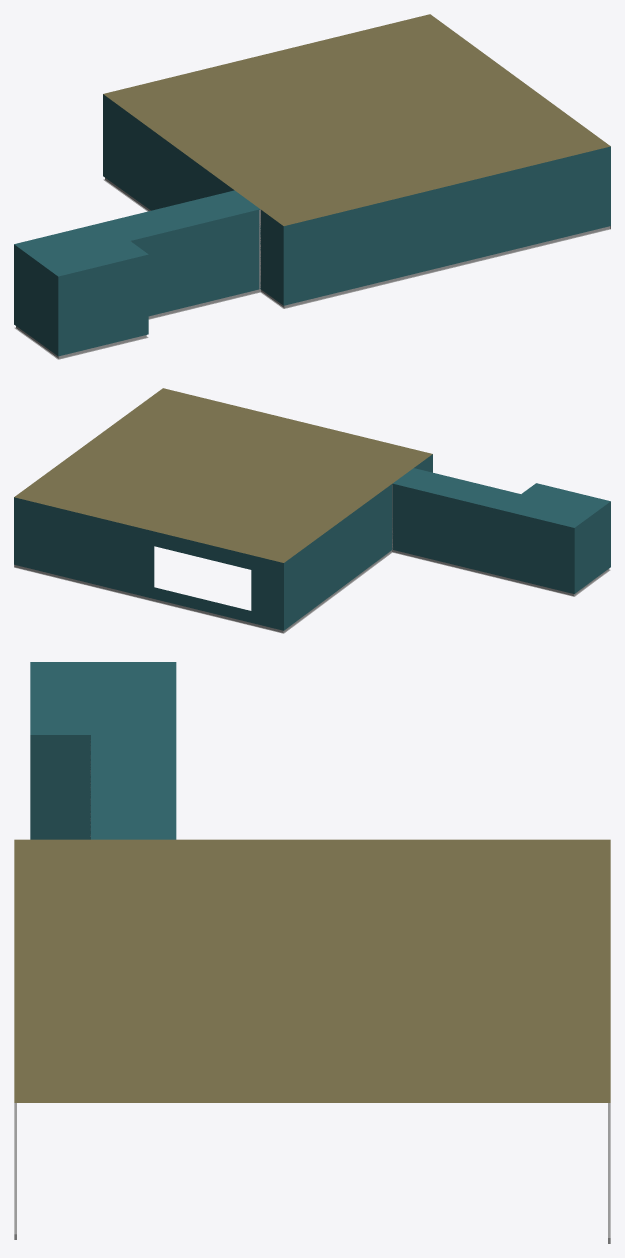
Rendered from office_reworked_final.fbx.
The picture shows the model from 3 angles, top to bottom: view 1: azimuth 30°, elevation 25°; view 2: azimuth 150°, elevation 25°; view 3: azimuth 270°, elevation 25°; orthographic projection. The views are drawn at different scales.
Parts seen in each view (by area): view 1: polySurface60, polySurface61; view 2: polySurface60, polySurface61; view 3: polySurface60, polySurface61.
Part boxes in pixels (x1,y1,x2,y2): polySurface60: (14, 14, 610, 276); polySurface61: (14, 94, 610, 359); polySurface60: (14, 388, 610, 562); polySurface61: (14, 454, 610, 633); polySurface60: (14, 662, 610, 1102); polySurface61: (14, 735, 610, 1243).
Bounding box in the file's own units: 2477 × 371 × 1415.
